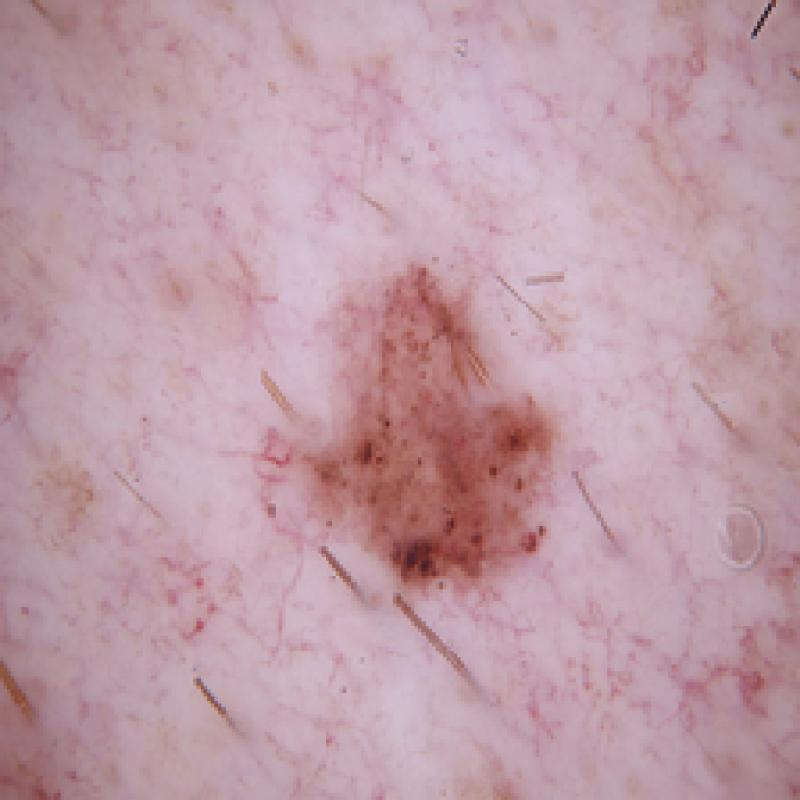benign: (265, 249, 619, 616)
